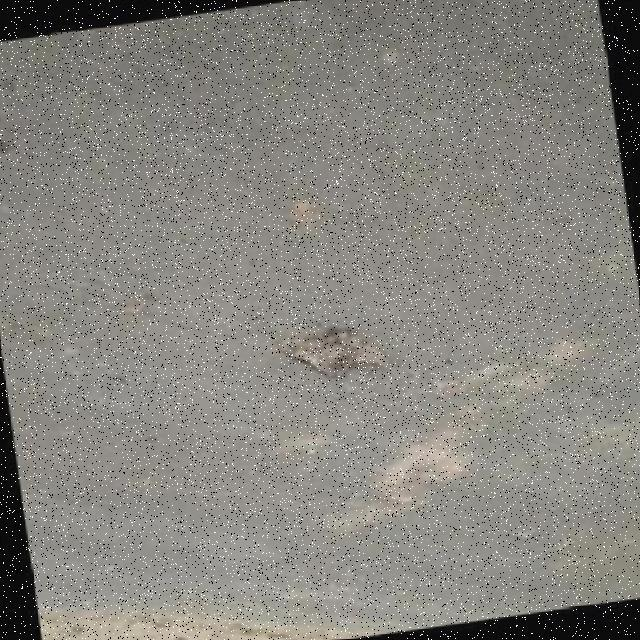Pothole: (278, 327, 390, 379)
